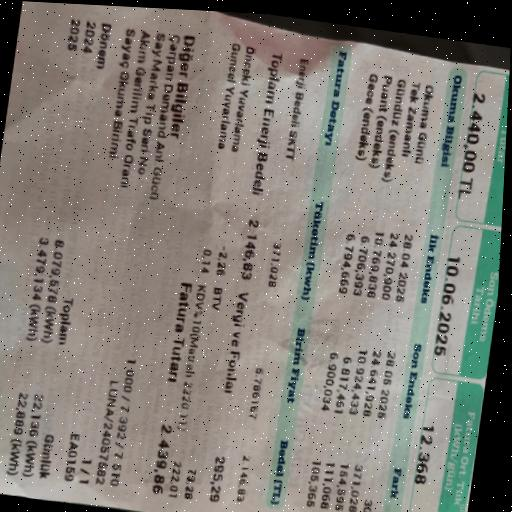electricity-bill: (0, 1, 510, 512)
